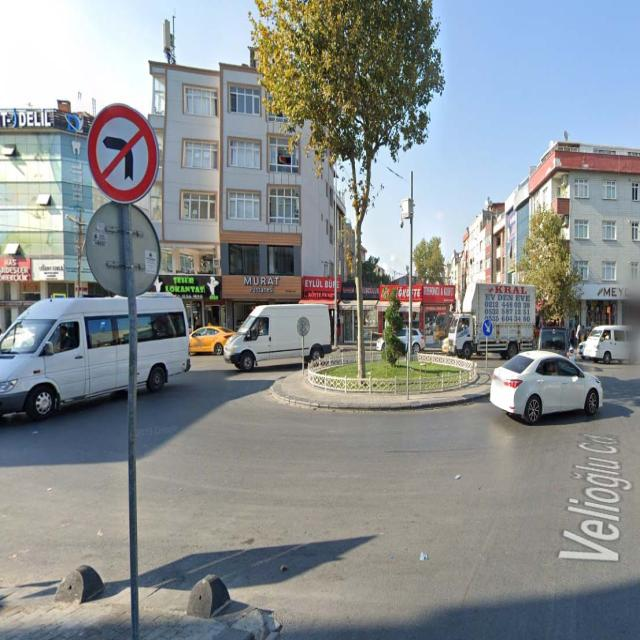soladonulmez: (87, 103, 159, 202)
